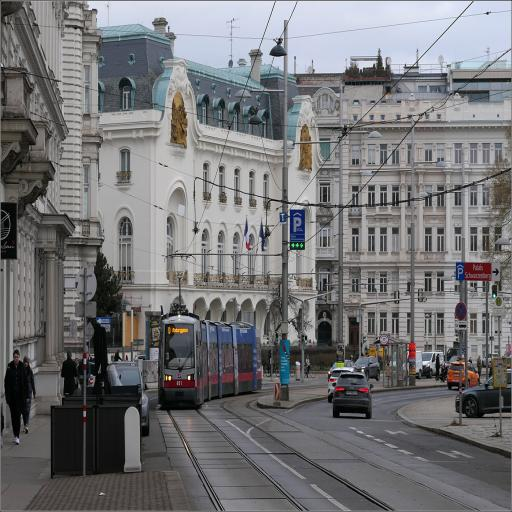ULF: (158, 315, 262, 408)
